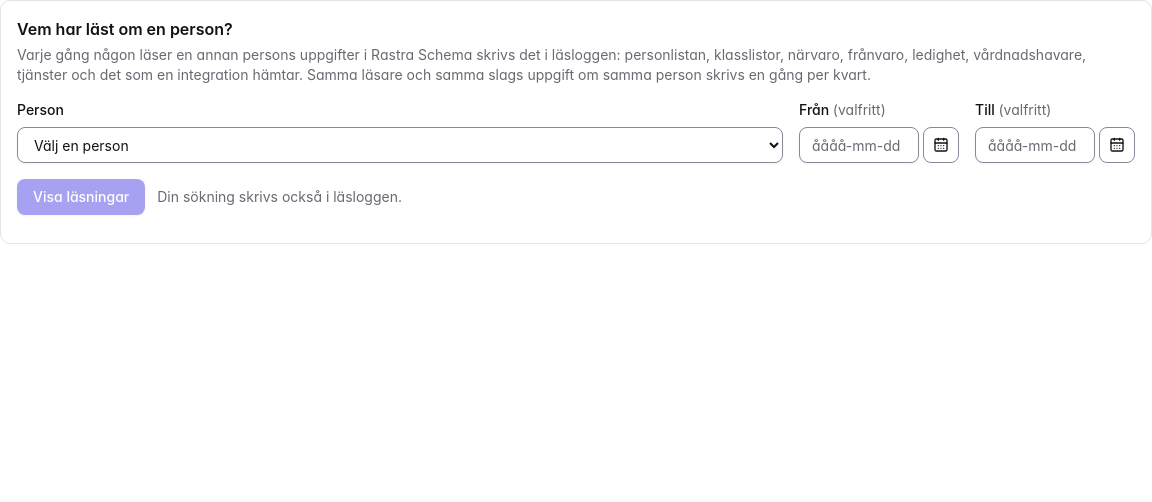
it: Vem har läst om en person? › asks nothing until the button, and then exactly the person and period chosen
This screenshot has width=1152, height=502.
expect the button "Visa läsningar" is disabled: met, box [17,179,145,215]
expect the text "Din sökning skrivs också i läsloggen." is shown: met, box [157,187,402,207]
Select "Ek, Ada" in the dropdown labelled "Person": (400, 145) [17,127,783,163]
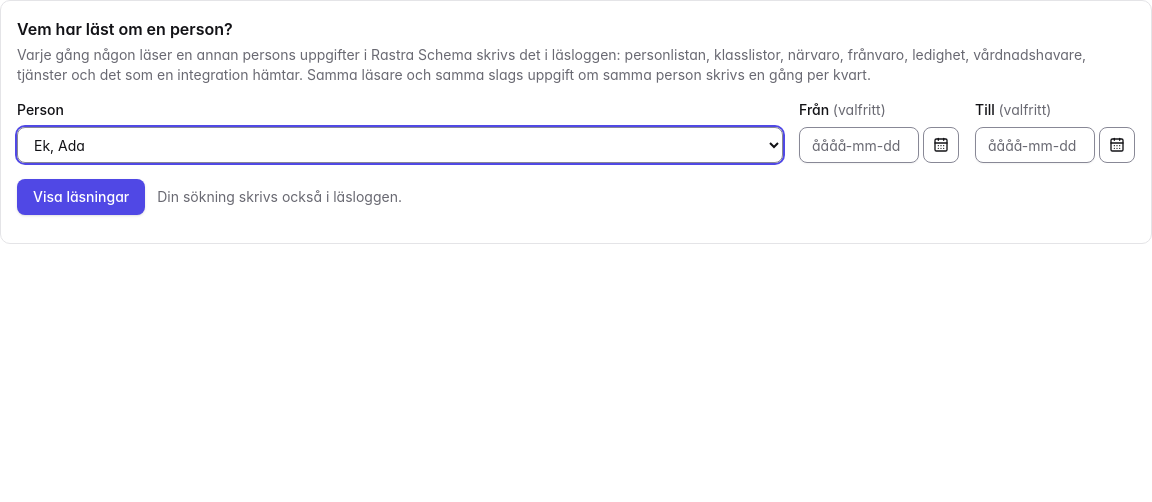
In the field labelled "Från (valfritt)": (859, 145) [799,127,919,163], type "2026-10-01"
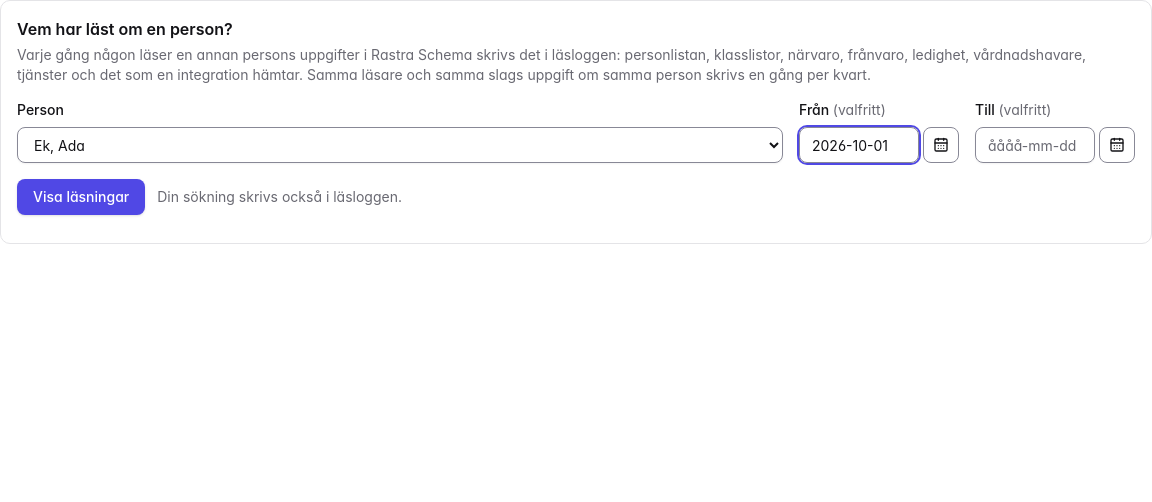
Click the button "Visa läsningar": click(81, 197) [17,179,145,215]
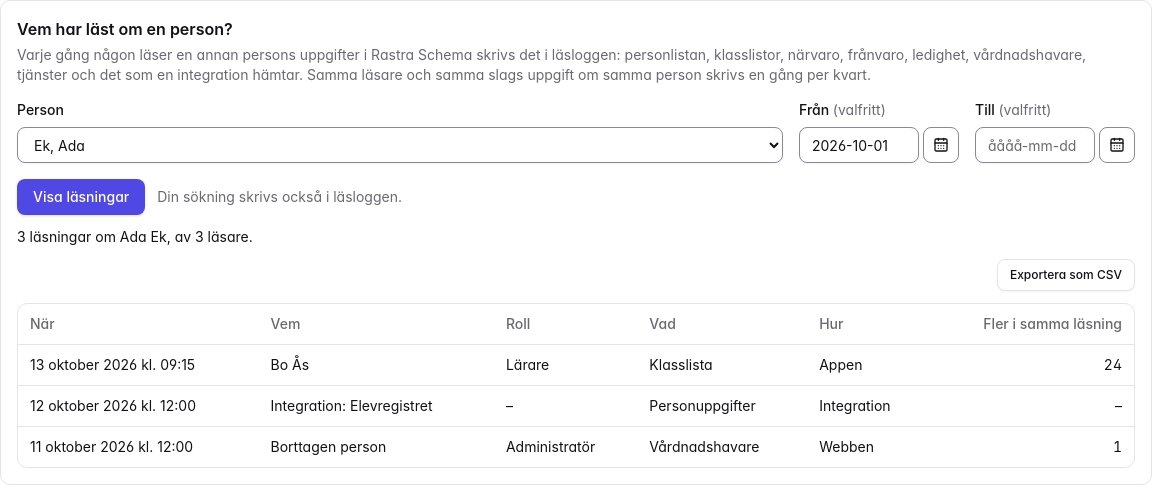
expect the text "3 läsningar om Ada Ek, av 3 läsare." is shown: met, box [17,228,253,245]
